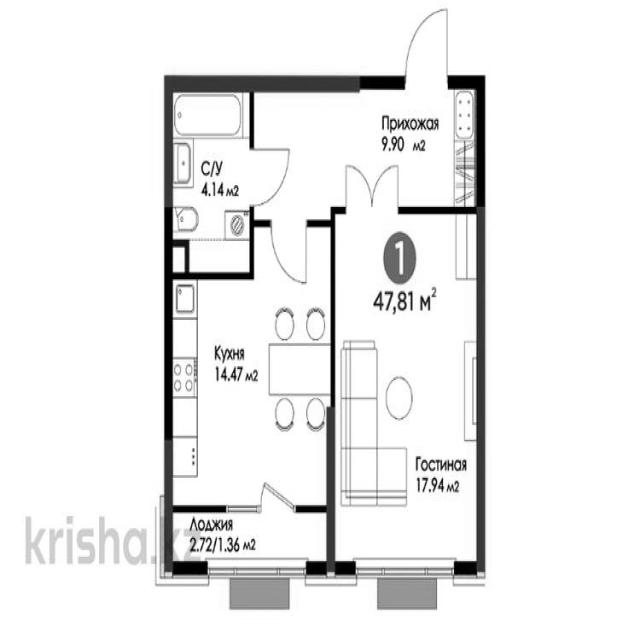balcony: (168, 509, 332, 568)
bathroom: (169, 81, 252, 278)
hallway: (253, 80, 480, 208)
kitchen: (165, 276, 330, 510)
living_room: (332, 206, 486, 568)
